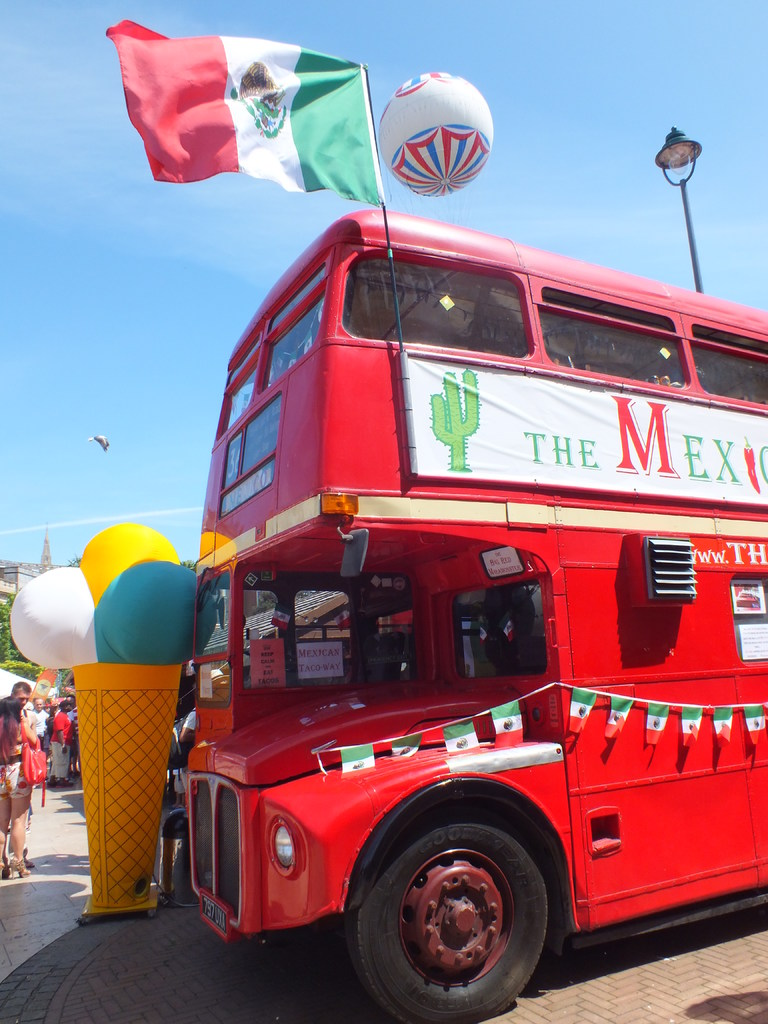Ball: (381, 70, 493, 200)
